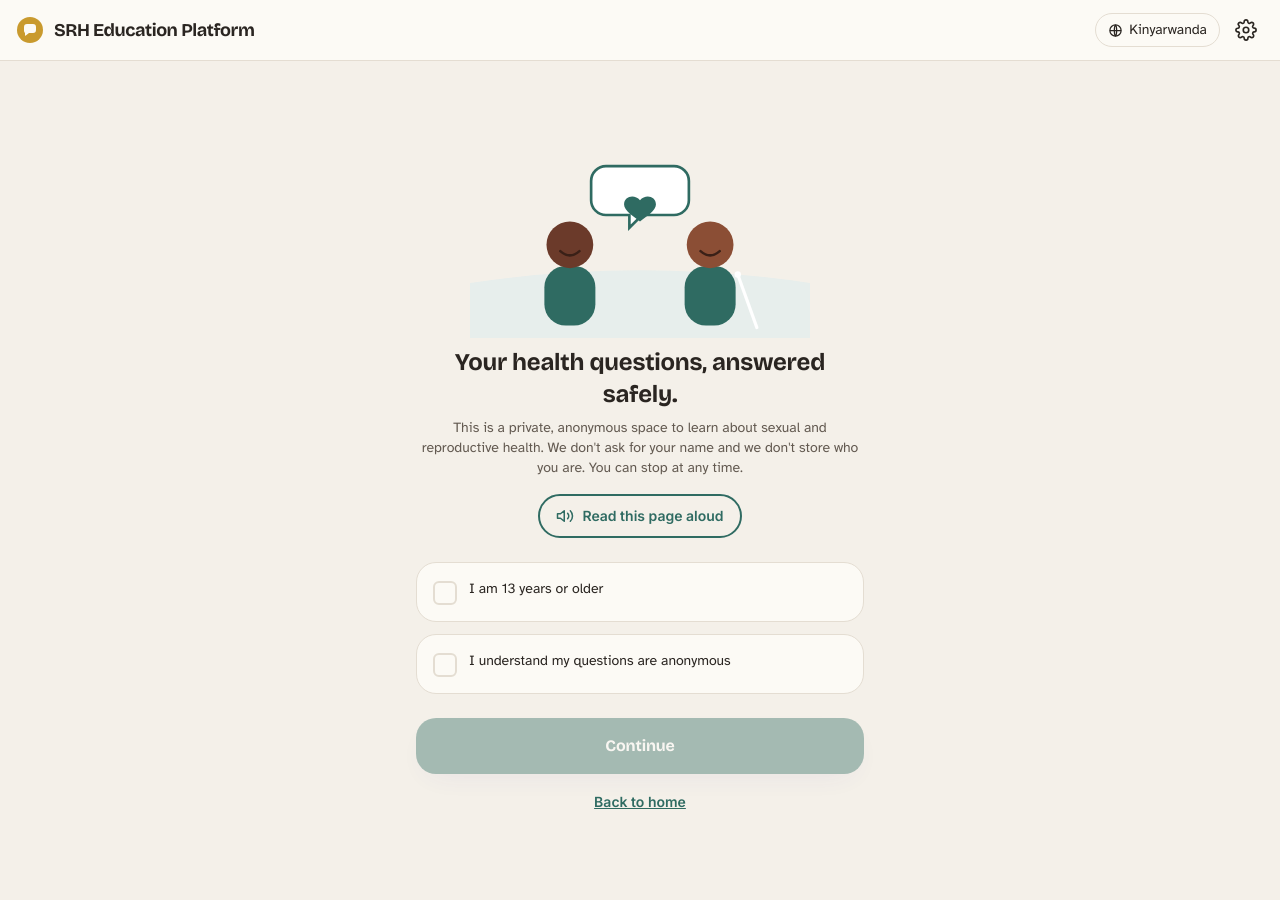
Test case: Onboarding / ConsentScreen › gates the Continue button behind both consent checkboxes
Expected: the button "Continue" is disabled, [416,718,864,774]
Click the checkbox labelled "I am 13 years or older": (536, 589) [416,562,864,622]
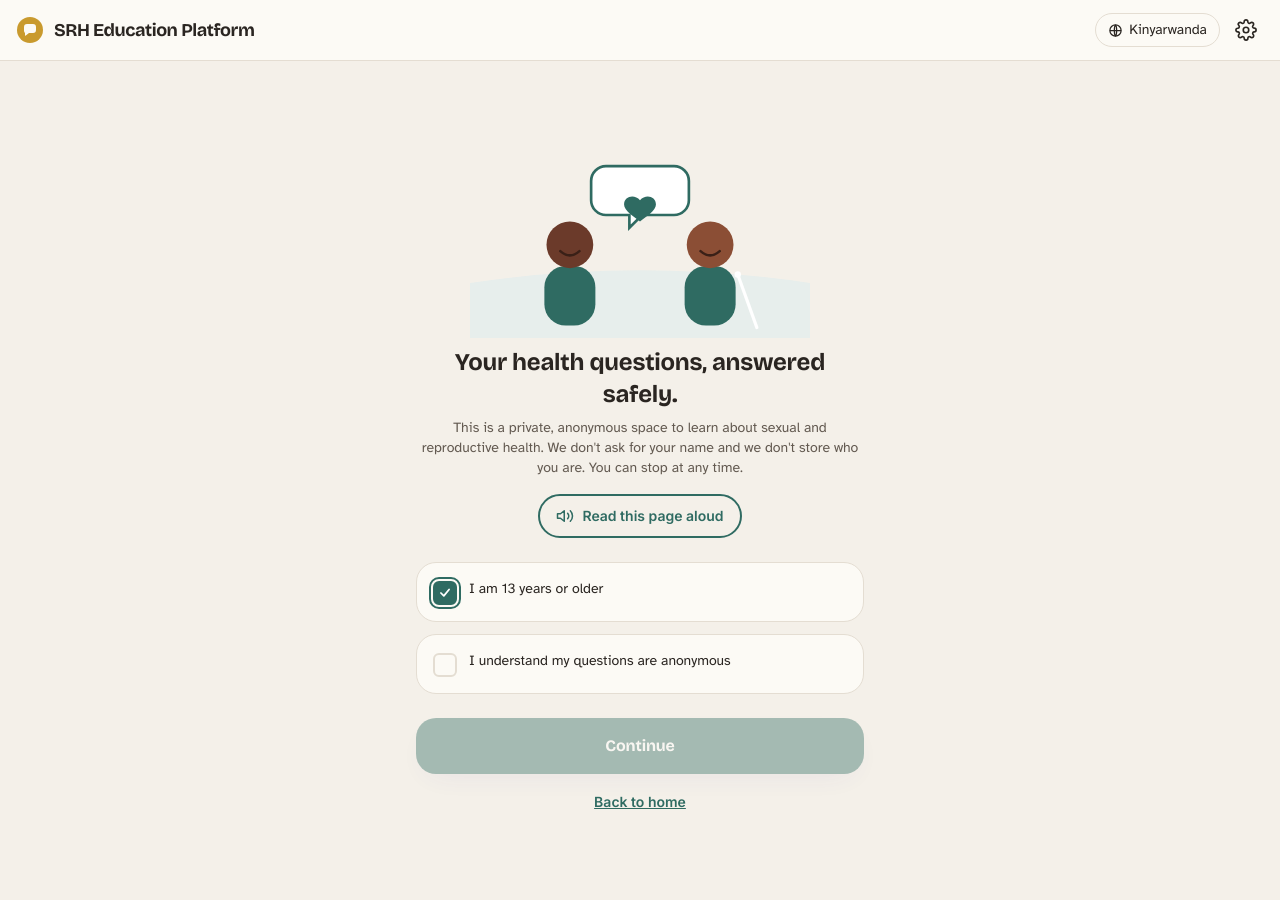
Expected: the button "Continue" is disabled, [416,718,864,774]
Click the checkbox labelled "I understand my questions are anonymous": (640, 664) [416,634,864,694]
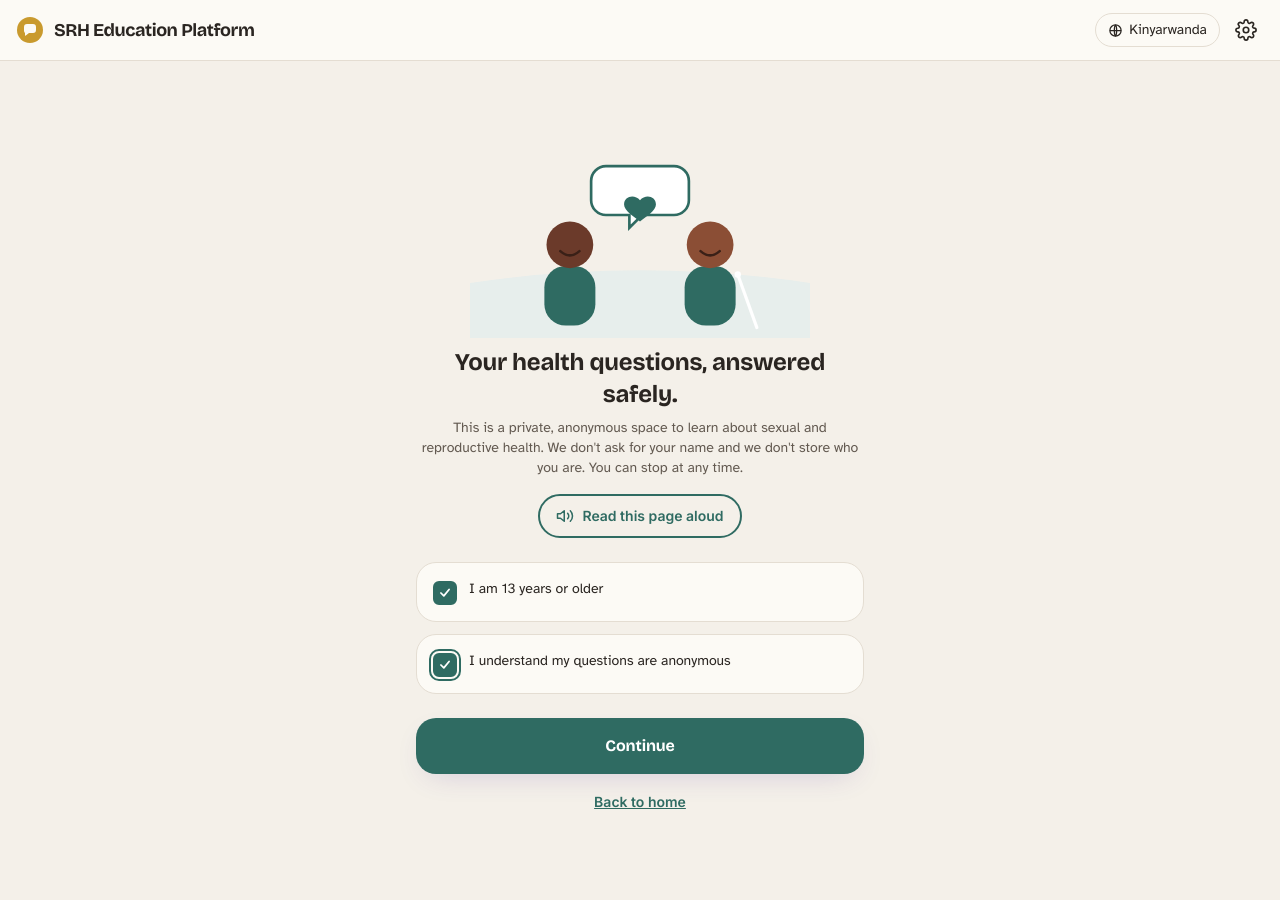
Result: the button "Continue" is enabled at [416,718,864,774]
